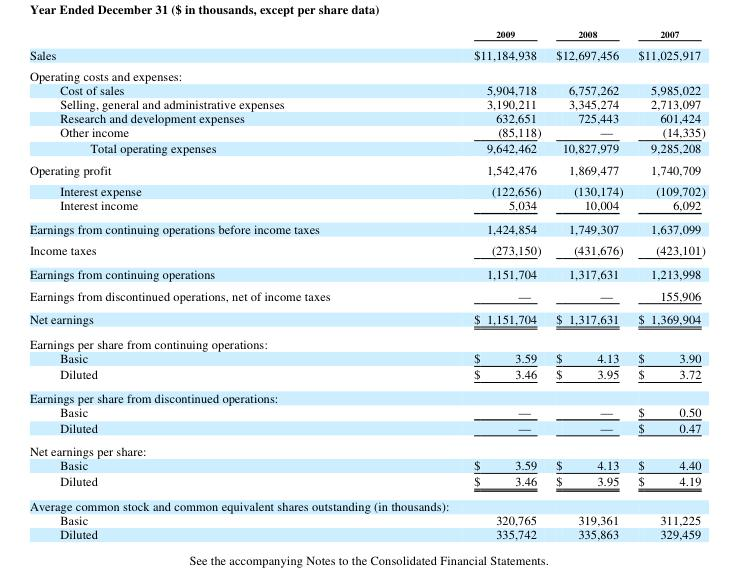table: (28, 28, 704, 541)
table column: (28, 28, 401, 541), (401, 28, 547, 541), (547, 28, 630, 541), (630, 28, 704, 541)
table column header: (28, 28, 704, 43)
table projected row header: (28, 331, 704, 351), (28, 493, 704, 513), (28, 385, 704, 404), (28, 65, 704, 83), (28, 439, 704, 457)
table row: (28, 306, 704, 331), (28, 216, 704, 239), (28, 261, 704, 284), (28, 43, 704, 65), (28, 158, 704, 180), (28, 239, 704, 261), (28, 284, 704, 306), (28, 472, 704, 493), (28, 331, 704, 351), (28, 419, 704, 439), (28, 493, 704, 513), (28, 139, 704, 158), (28, 366, 704, 385), (28, 385, 704, 404), (28, 65, 704, 83), (28, 180, 704, 198), (28, 198, 704, 216), (28, 439, 704, 457), (28, 28, 704, 43), (28, 124, 704, 139), (28, 351, 704, 366), (28, 404, 704, 419), (28, 457, 704, 472), (28, 83, 704, 97), (28, 97, 704, 111), (28, 513, 704, 527), (28, 527, 704, 541), (28, 111, 704, 124)
